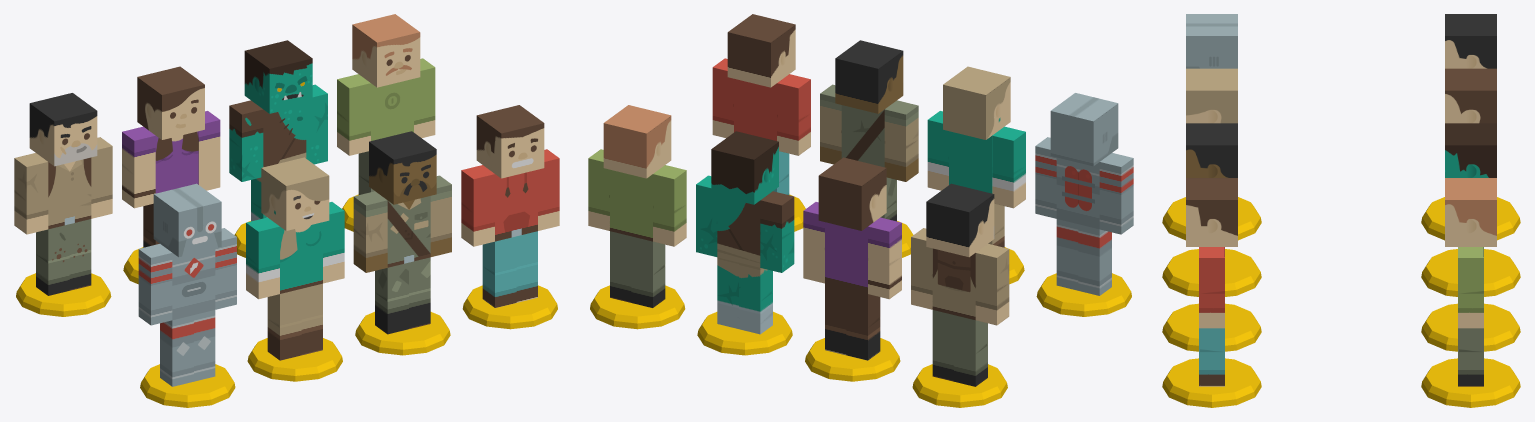
File: free_block_characters_low-poly.glb
3 views of the same model, side by side, from view 1: azimuth 30°, elevation 25°; view 2: azimuth 150°, elevation 25°; view 3: azimuth 270°, elevation 25° (orthographic). The views are drawn at different scales.
Visible parts, largest first — view 1: Head1.003, Head1.005, Head1.002, Head1.007, Head1, Head1.006, Head1.004, Head1.001, Body1.007, Body1.004, Body1, Body1.005 (+37 smaller); view 2: Head1.004, Head1.005, Head1.002, Head1.007, Head1, Head1.001, Head1.003, Head1.006, Body1.003, Body1, Body1.007, Body1.002 (+37 smaller); view 3: Head1.005, Head1.002, Cylinder.005, Cylinder.002, Head1.006, Head1.001, Head1.007, Head1.004, Head1.003, Head1, Cylinder.004, Cylinder.003 (+8 smaller).
Part boxes in pixels (left/top/right/bottom): Head1.003: left=244, top=40, right=312, bottom=113; Head1.005: left=476, top=105, right=544, bottom=178; Head1.002: left=352, top=14, right=420, bottom=87; Head1.007: left=153, top=183, right=221, bottom=257; Head1: left=29, top=93, right=97, bottom=166; Head1.006: left=261, top=157, right=329, bottom=230; Head1.004: left=369, top=131, right=436, bottom=204; Head1.001: left=137, top=66, right=204, bottom=139; Body1.007: left=172, top=248, right=215, bottom=320; Body1.004: left=387, top=196, right=430, bottom=267; Body1: left=48, top=157, right=91, bottom=229; Body1.005: left=495, top=169, right=537, bottom=241; Head1.004: left=835, top=40, right=903, bottom=113; Head1.005: left=727, top=14, right=795, bottom=87; Head1.002: left=603, top=105, right=671, bottom=178; Head1.007: left=1050, top=93, right=1118, bottom=166; Head1: left=926, top=183, right=994, bottom=257; Head1.001: left=818, top=157, right=886, bottom=230; Head1.003: left=711, top=131, right=778, bottom=204; Head1.006: left=943, top=66, right=1010, bottom=139; Body1.003: left=717, top=196, right=760, bottom=267; Body1: left=932, top=248, right=975, bottom=320; Body1.007: left=1056, top=157, right=1099, bottom=229; Body1.002: left=609, top=169, right=652, bottom=241; Head1.005: left=1186, top=178, right=1237, bottom=246; Head1.002: left=1445, top=178, right=1496, bottom=246; Cylinder.005: left=1162, top=358, right=1261, bottom=407; Cylinder.002: left=1421, top=358, right=1520, bottom=407; Head1.006: left=1186, top=68, right=1237, bottom=123; Head1.001: left=1445, top=68, right=1496, bottom=123; Head1.007: left=1186, top=14, right=1237, bottom=68; Head1.004: left=1186, top=123, right=1237, bottom=177; Head1.003: left=1445, top=123, right=1496, bottom=177; Head1: left=1445, top=14, right=1496, bottom=68; Cylinder.004: left=1162, top=303, right=1261, bottom=351; Cylinder.003: left=1421, top=303, right=1520, bottom=351.
Bounding box in the file's own units: 38 × 16.87 × 27.69.
9 materials, 8 textured.
